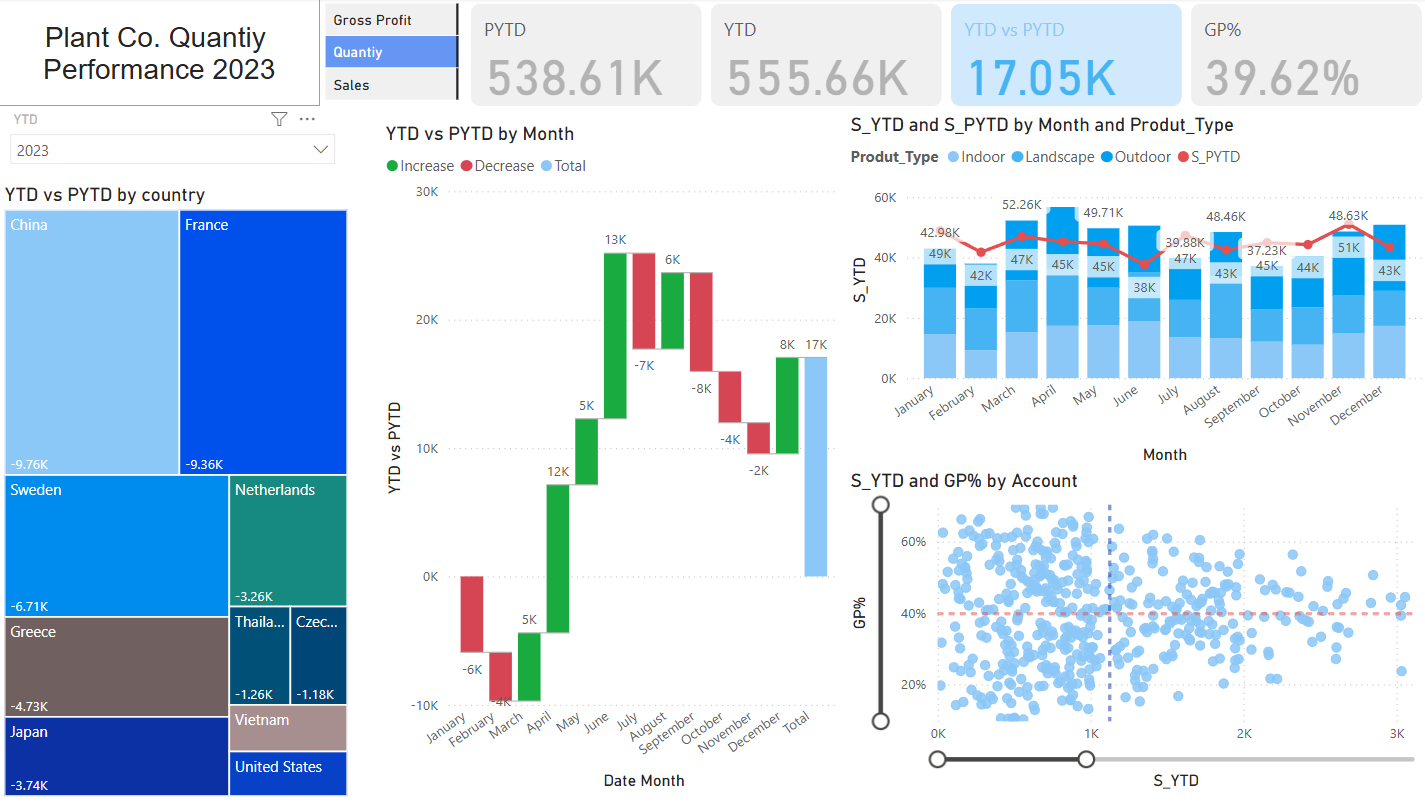

The page's visual inventory and layout, read from the dashboard file:
{"tool":"powerbi","page":{"name":"Page 1","canvas":[1280,720],"ordinal":0},"visuals":[{"type":"advancedSlicerVisual","fields":{"Values":["Slc_Values.Values"]},"box":[287.5,0,129.9,96.7],"z":0},{"type":"slicer","fields":{"Values":["Dim_Date.Date.Variation.Date Hierarchy.Year"]},"box":[0,96.7,310.7,72.5],"z":1000},{"type":"treemap","fields":{"Group":["Dim_Account.country"],"Values":["_Measures.YTD vs PYTD"]},"box":[0,165.7,317,554.3],"z":2000},{"type":"waterfallChart","fields":{"Y":["_Measures.YTD vs PYTD"],"Category":["Dim_Date.Date.Variation.Date Hierarchy.Month","Dim_Account.country"]},"box":[341.2,111,416.4,602.7],"z":3000},{"type":"lineStackedColumnComboChart","fields":{"Y":["_Measures.S_YTD"],"Category":["Dim_Date.Date.Variation.Date Hierarchy.Quarter","Dim_Date.Date.Variation.Date Hierarchy.Month"],"Y2":["_Measures.S_PYTD"],"Series":["Dim_Product.Produt_Type"]},"box":[757.6,103,522.1,318.8],"z":4000},{"type":"cardVisual","fields":{"Data":["_Measures.S_PYTD","_Measures.S_YTD","_Measures.YTD vs PYTD","_Measures.GP%"]},"box":[417.3,0,862.4,103],"z":5000},{"type":"scatterChart","fields":{"Y":["_Measures.GP%"],"X":["_Measures.S_YTD"],"Category":["Dim_Account.Account"]},"box":[757.6,421.8,522.1,291.9],"z":6000},{"type":"card","fields":{"Values":["_ReportTitle._ReportTitle"]},"box":[0,0,287.5,96.7],"z":7000}]}

Visuals, with their boxes in screenshot pixels (x1, y1, x2, y2), scaled from the page's 1280x720 canvas onto the 1425x802 screenshot:
advancedSlicerVisual - Slc_Values.Values: <region>320, 0, 465, 108</region>
slicer - Dim_Date.Date.Variation.Date Hierarchy.Year: <region>0, 108, 346, 188</region>
treemap - Dim_Account.country x _Measures.YTD vs PYTD: <region>0, 185, 353, 801</region>
waterfallChart - _Measures.YTD vs PYTD x Dim_Date.Date.Variation.Date Hierarchy.Month: <region>380, 124, 843, 795</region>
lineStackedColumnComboChart - _Measures.S_YTD x Dim_Date.Date.Variation.Date Hierarchy.Quarter: <region>843, 115, 1424, 470</region>
cardVisual - _Measures.S_PYTD x _Measures.S_YTD: <region>465, 0, 1424, 115</region>
scatterChart - _Measures.GP% x _Measures.S_YTD: <region>843, 470, 1424, 795</region>
card - _ReportTitle._ReportTitle: <region>0, 0, 320, 108</region>
